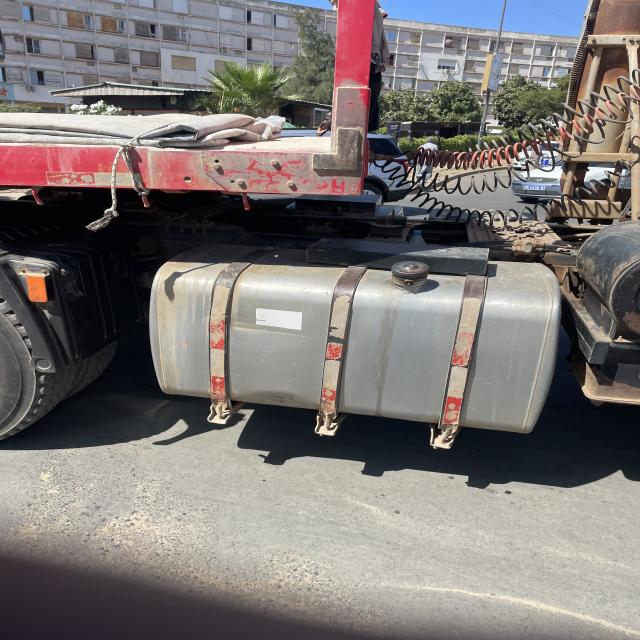camion: (1, 1, 639, 450)
